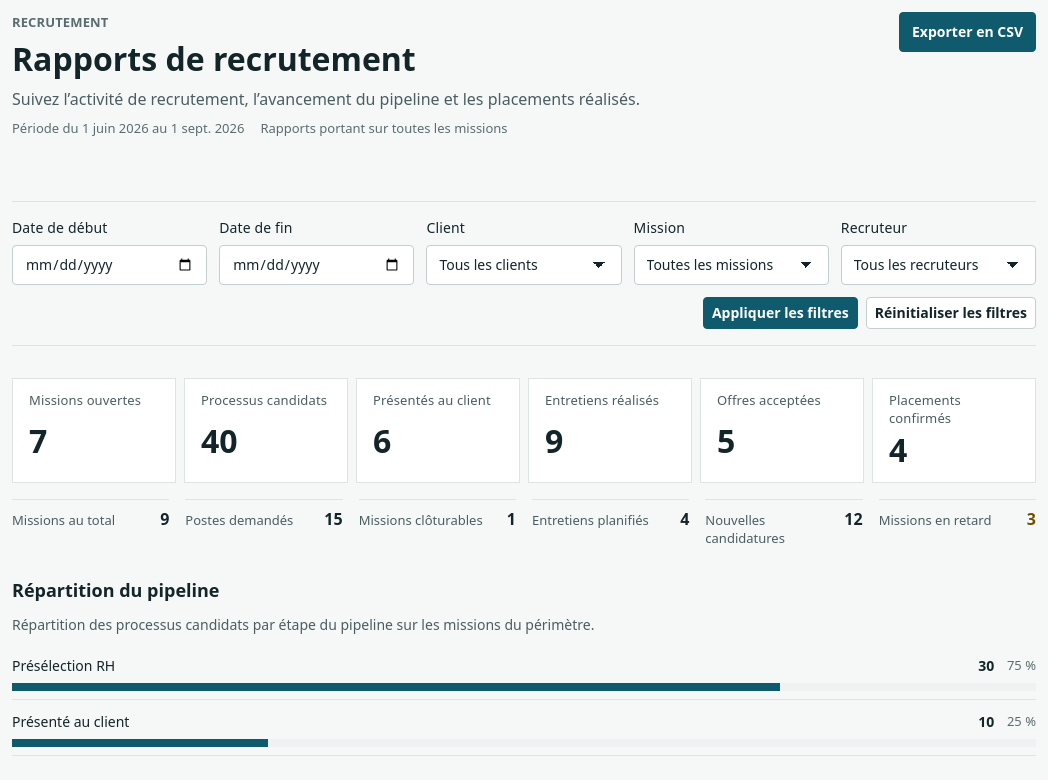
Scenario: recruitment reporting dashboard › exports the server-provided file and reports success in the active language
Expected: the text "Missions ouvertes" is shown, [29, 391, 159, 418]
Click the button "Exporter en CSV". click: (968,32)
box: [899, 12, 1036, 52]
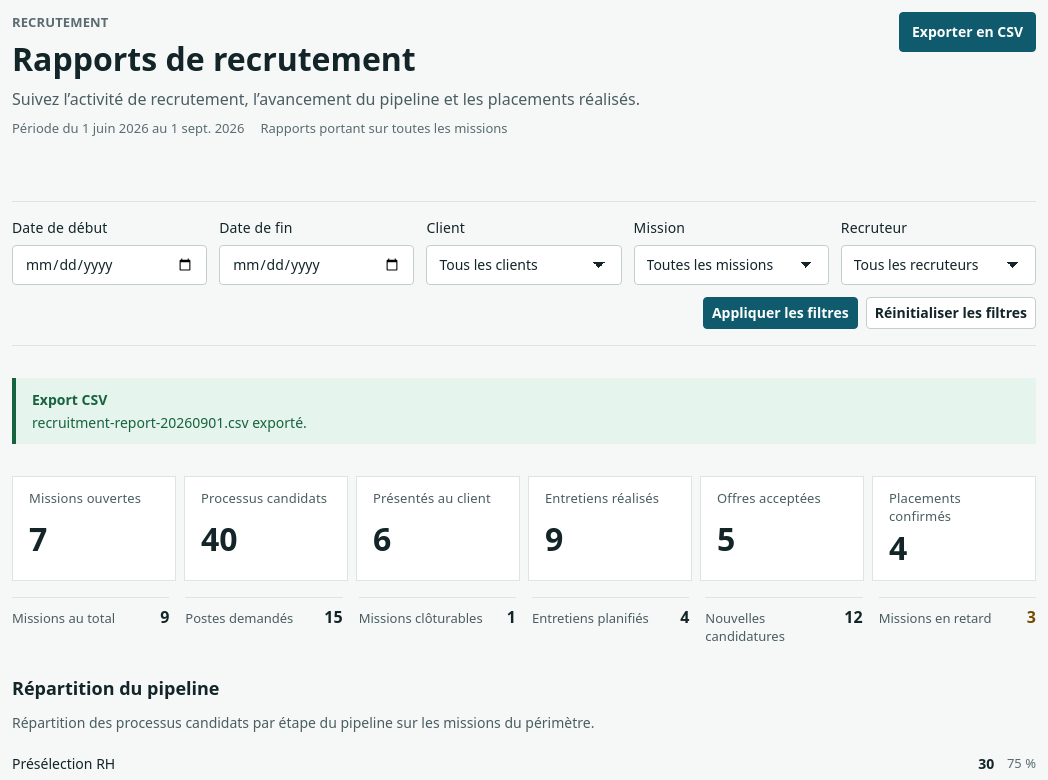
Expected: the message shows "recruitment-report-20260901.csv exporté.", [32, 413, 307, 432]
